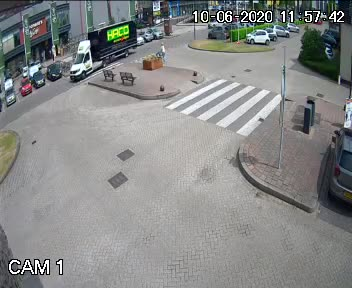car: (55, 20, 147, 79)
